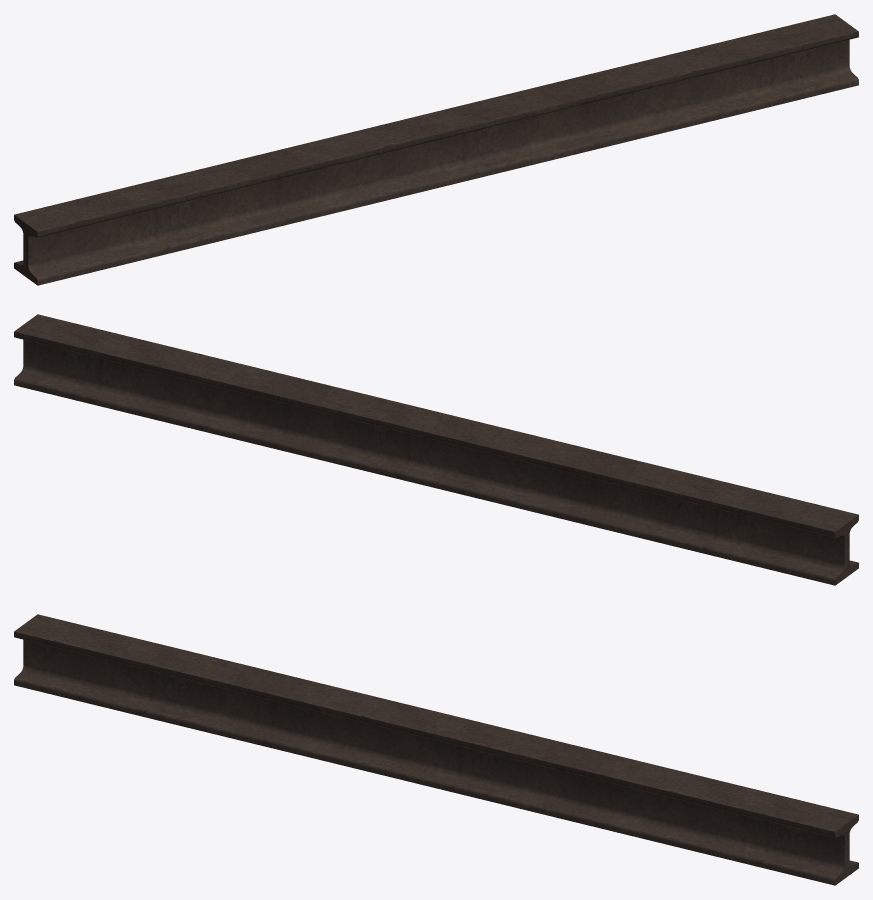
The model's file is beam_4.obj.
3 views of the same model, one above another, from view 1: azimuth 30°, elevation 25°; view 2: azimuth 150°, elevation 25°; view 3: azimuth 330°, elevation 25° (orthographic).
Visible parts, largest first — view 1: beam_4; view 2: beam_4; view 3: beam_4.
Boxes of the visible parts, box(x1,y1,x2,y2) form: beam_4: box(14, 14, 858, 285); beam_4: box(14, 314, 858, 585); beam_4: box(14, 614, 858, 885).
Bounding box in the file's own units: 4 × 0.25 × 0.2.
